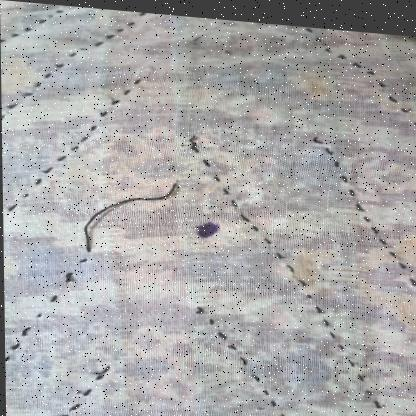spot: (184, 215, 227, 241)
